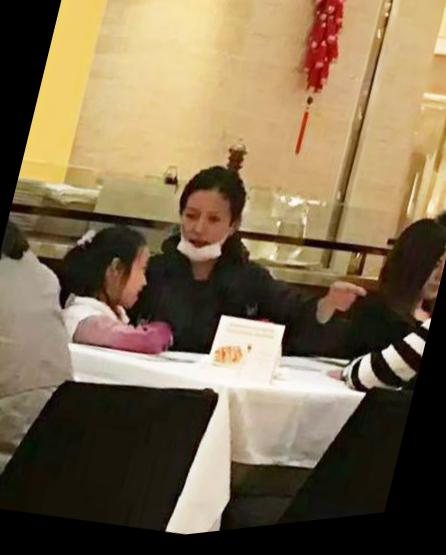NONE: (101, 255, 157, 319), (413, 257, 446, 313)
WRONG: (171, 196, 244, 275)
